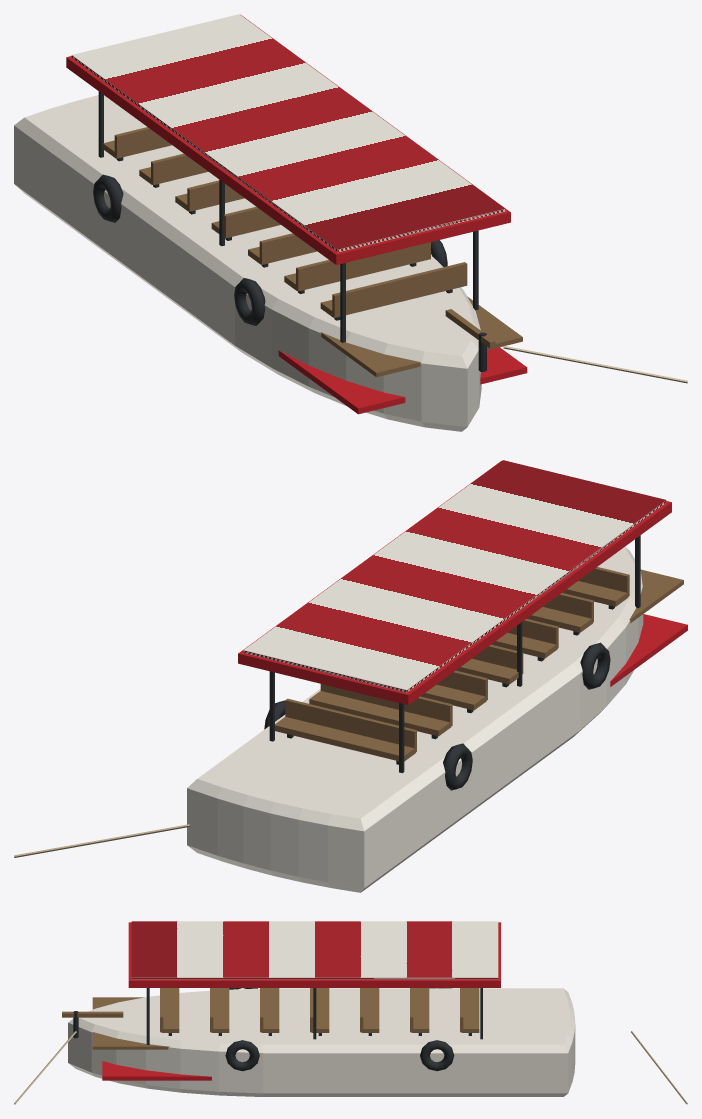
Rendered from boat-tour.obj.
The picture shows the model from 3 angles, top to bottom: view 1: azimuth 30°, elevation 25°; view 2: azimuth 150°, elevation 25°; view 3: azimuth 270°, elevation 25°; orthographic projection. The views are drawn at different scales.
Visible parts, largest first — view 1: part1, part38, part39.nocast, part2.nocast, part29.nocast, part25.nocast, part3.nocast, part21.nocast, part5.nocast, part17.nocast, part9.nocast, part43.nocast (+3 smaller); view 2: part1, part38, part39.nocast, part5.nocast, part4, part8, part2.nocast, part9.nocast, part3.nocast, part43.nocast, part42.nocast, part12 (+9 smaller); view 3: part1, part38, part39.nocast, part2.nocast, part3.nocast, part8, part28, part4, part12, part20, part24, part44.nocast (+3 smaller).
Part boxes in pixels (bbox=[...]): part1: bbox=[14, 95, 481, 431]; part38: bbox=[71, 14, 505, 252]; part39.nocast: bbox=[66, 14, 510, 264]; part2.nocast: bbox=[278, 347, 527, 414]; part29.nocast: bbox=[332, 262, 467, 317]; part25.nocast: bbox=[296, 242, 430, 291]; part3.nocast: bbox=[320, 296, 522, 377]; part21.nocast: bbox=[259, 233, 317, 264]; part5.nocast: bbox=[114, 127, 171, 158]; part17.nocast: bbox=[223, 206, 280, 238]; part9.nocast: bbox=[151, 153, 208, 185]; part43.nocast: bbox=[234, 278, 265, 325]; part1: bbox=[187, 547, 643, 892]; part38: bbox=[243, 460, 666, 692]; part39.nocast: bbox=[238, 460, 671, 704]; part5.nocast: bbox=[285, 698, 416, 752]; part4: bbox=[275, 716, 415, 761]; part8: bbox=[309, 691, 451, 736]; part2.nocast: bbox=[610, 614, 687, 686]; part9.nocast: bbox=[320, 684, 452, 726]; part3.nocast: bbox=[629, 569, 683, 623]; part43.nocast: bbox=[580, 642, 610, 689]; part42.nocast: bbox=[443, 743, 472, 790]; part12: bbox=[420, 684, 486, 710]; part1: bbox=[68, 988, 575, 1096]; part38: bbox=[131, 921, 498, 979]; part39.nocast: bbox=[128, 922, 500, 987]; part2.nocast: bbox=[102, 1061, 211, 1080]; part3.nocast: bbox=[92, 997, 169, 1049]; part8: bbox=[411, 988, 429, 1032]; part28: bbox=[161, 988, 179, 1032]; part4: bbox=[461, 988, 479, 1032]; part12: bbox=[361, 988, 379, 1032]; part20: bbox=[261, 988, 279, 1032]; part24: bbox=[211, 988, 229, 1032]; part44.nocast: bbox=[420, 1040, 454, 1071].
Size of the model in its own units: 3.99 by 2.37 by 12.13.
7 materials, 1 textured.
